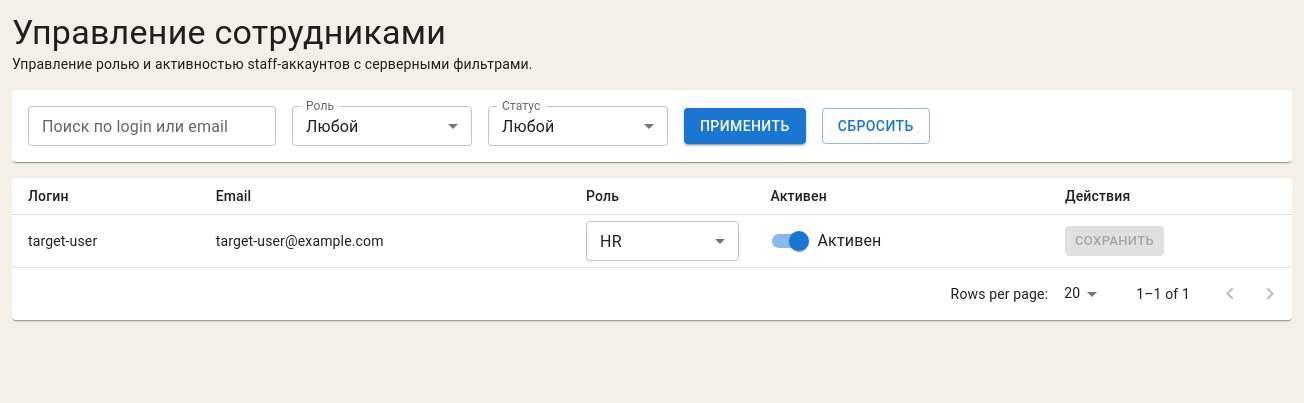
Test: AdminStaffManagementPage › sends PATCH update and shows success message
The width and height of the screenshot is (1304, 403).
Expected: the text "target-user" is shown, [12,214,200,268]
Click the checkbox labelled "Активен": coordinates (826, 241) [772,231,881,251]
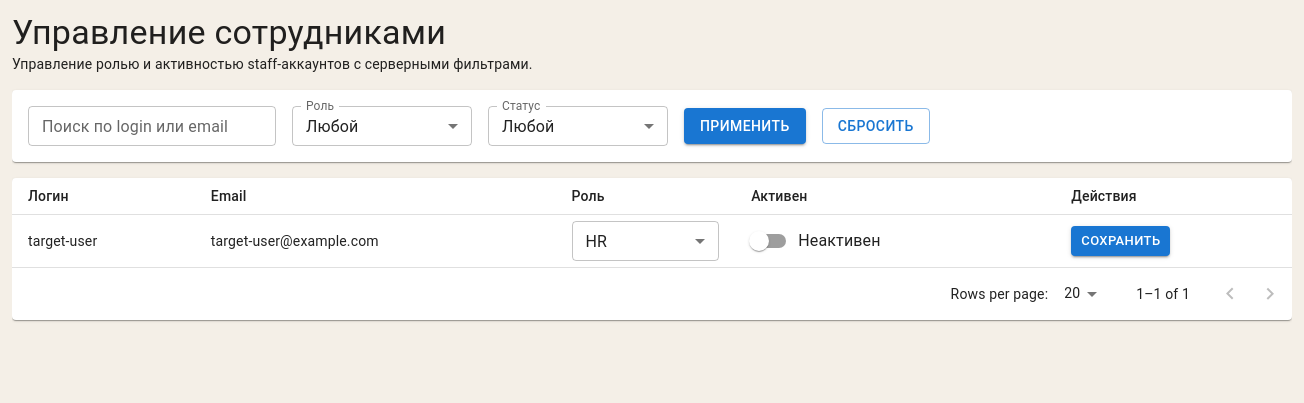
Click the button "Сохранить": coordinates (1121, 241) [1071,226,1170,256]
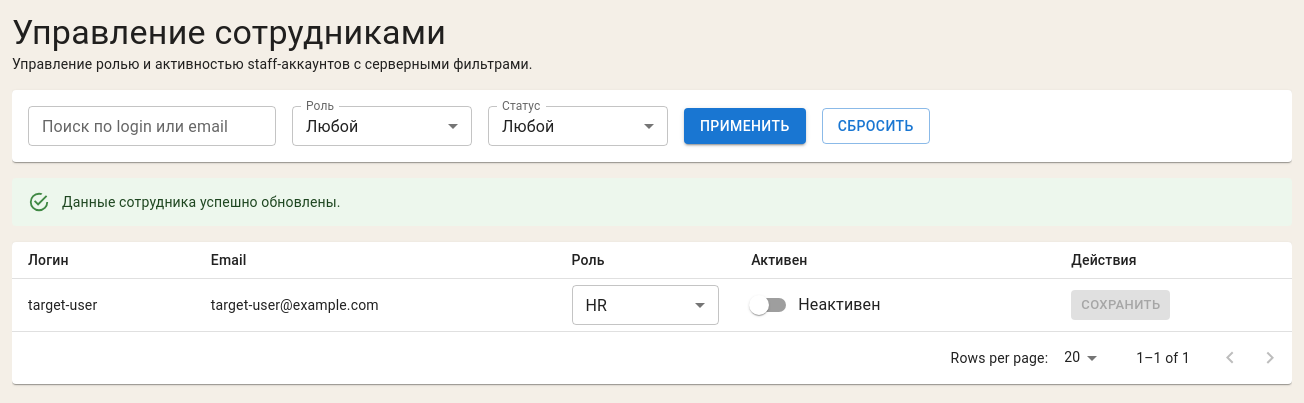
Result: the text "Данные сотрудника успешно обновлены." is shown at [62,194,341,210]
